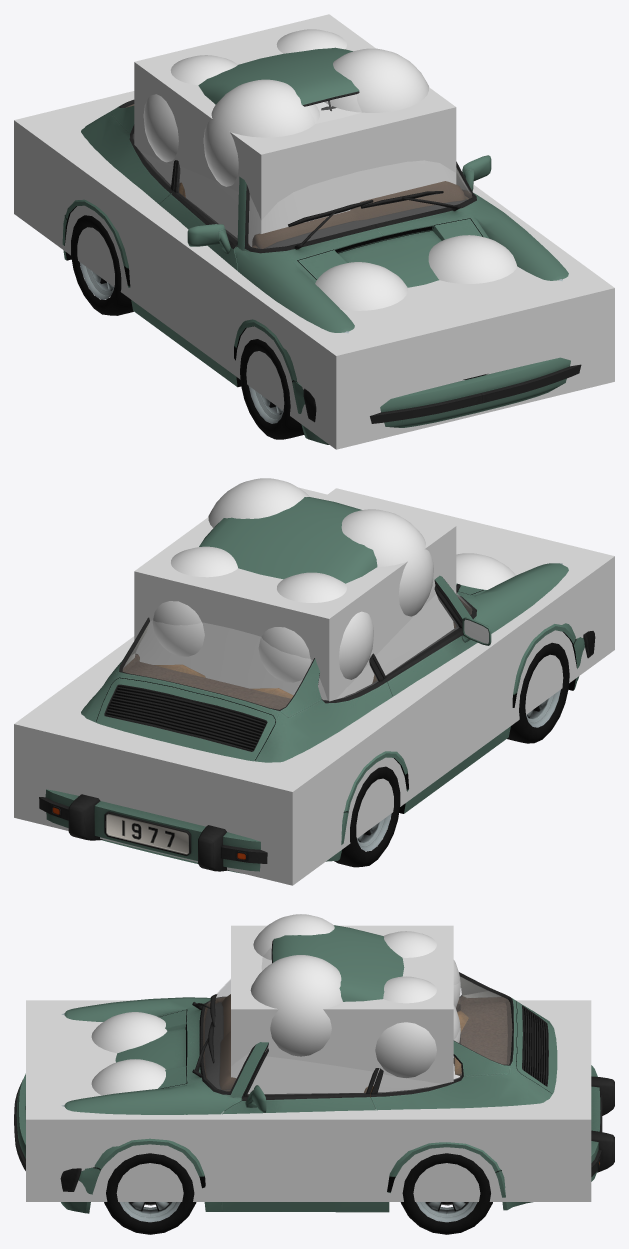
Rendered from car.glb.
The picture shows the model from 3 angles, top to bottom: view 1: azimuth 30°, elevation 25°; view 2: azimuth 150°, elevation 25°; view 3: azimuth 270°, elevation 25°; orthographic projection. The views are drawn at different scales.
Visible parts, largest first — view 1: Cube.006, Cube.002, body, node_windows_-1408_13, node_matte1_-1402_10, Sphere.002, Sphere.001, Sphere, Sphere.003, Sphere.007, node_right door glass_-1468_28, node_tyre2_-1452_26 (+7 smaller); view 2: Cube.006, body, Cube.002, node_matte1_-1402_10, node_windows_-1408_13, Sphere.007, Sphere.002, Sphere.004, Sphere.001, node_right door glass_-1468_28, node_tyre003_-1456_27, node_tyre2_-1452_26 (+5 smaller); view 3: Cube.006, body, Cube.002, node_matte1_-1402_10, node_windows_-1408_13, Sphere.001, Sphere.004, node_left door glass_-1430_23, node_tyre004_-1480_30, node_tyre1_-1438_25, Sphere.003, door_1 (+6 smaller).
Boxes of the visible parts, left/top/right/bottom form: Cube.006: left=14, top=91, right=614, bottom=449; Cube.002: left=134, top=14, right=456, bottom=246; body: left=62, top=47, right=570, bottom=444; node_windows_-1408_13: left=128, top=94, right=471, bottom=248; node_matte1_-1402_10: left=64, top=91, right=581, bottom=423; Sphere.002: left=203, top=79, right=319, bottom=186; Sphere.001: left=324, top=48, right=428, bottom=112; Sphere: left=428, top=235, right=517, bottom=283; Sphere.003: left=315, top=262, right=407, bottom=310; Sphere.007: left=143, top=55, right=237, bottom=162; node_right door glass_-1468_28: left=178, top=167, right=238, bottom=240; node_tyre2_-1452_26: left=240, top=339, right=304, bottom=439; Cube.006: left=14, top=488, right=614, bottom=885; body: left=45, top=497, right=584, bottom=873; Cube.002: left=134, top=487, right=456, bottom=701; node_matte1_-1402_10: left=39, top=579, right=595, bottom=871; node_windows_-1408_13: left=123, top=587, right=471, bottom=709; Sphere.007: left=258, top=572, right=373, bottom=682; Sphere.002: left=341, top=509, right=433, bottom=616; Sphere.004: left=152, top=546, right=237, bottom=656; Sphere.001: left=208, top=478, right=309, bottom=527; node_right door glass_-1468_28: left=376, top=594, right=458, bottom=675; node_tyre003_-1456_27: left=334, top=766, right=400, bottom=867; node_tyre2_-1452_26: left=507, top=642, right=569, bottom=743; Cube.006: left=26, top=1000, right=591, bottom=1201; body: left=16, top=925, right=600, bottom=1213; Cube.002: left=231, top=925, right=453, bottom=1093; node_matte1_-1402_10: left=14, top=940, right=614, bottom=1191; node_windows_-1408_13: left=203, top=946, right=512, bottom=1092; Sphere.001: left=250, top=955, right=342, bottom=1056; Sphere.004: left=375, top=976, right=460, bottom=1077; node_left door glass_-1430_23: left=248, top=1057, right=372, bottom=1094; node_tyre004_-1480_30: left=400, top=1153, right=492, bottom=1234; node_tyre1_-1438_25: left=104, top=1153, right=196, bottom=1234; Sphere.003: left=91, top=1012, right=167, bottom=1053; door_1: left=222, top=1085, right=375, bottom=1114.
Bounding box in the file's own units: 1.68 × 1.45 × 3.3.
6 materials, 4 textured.
